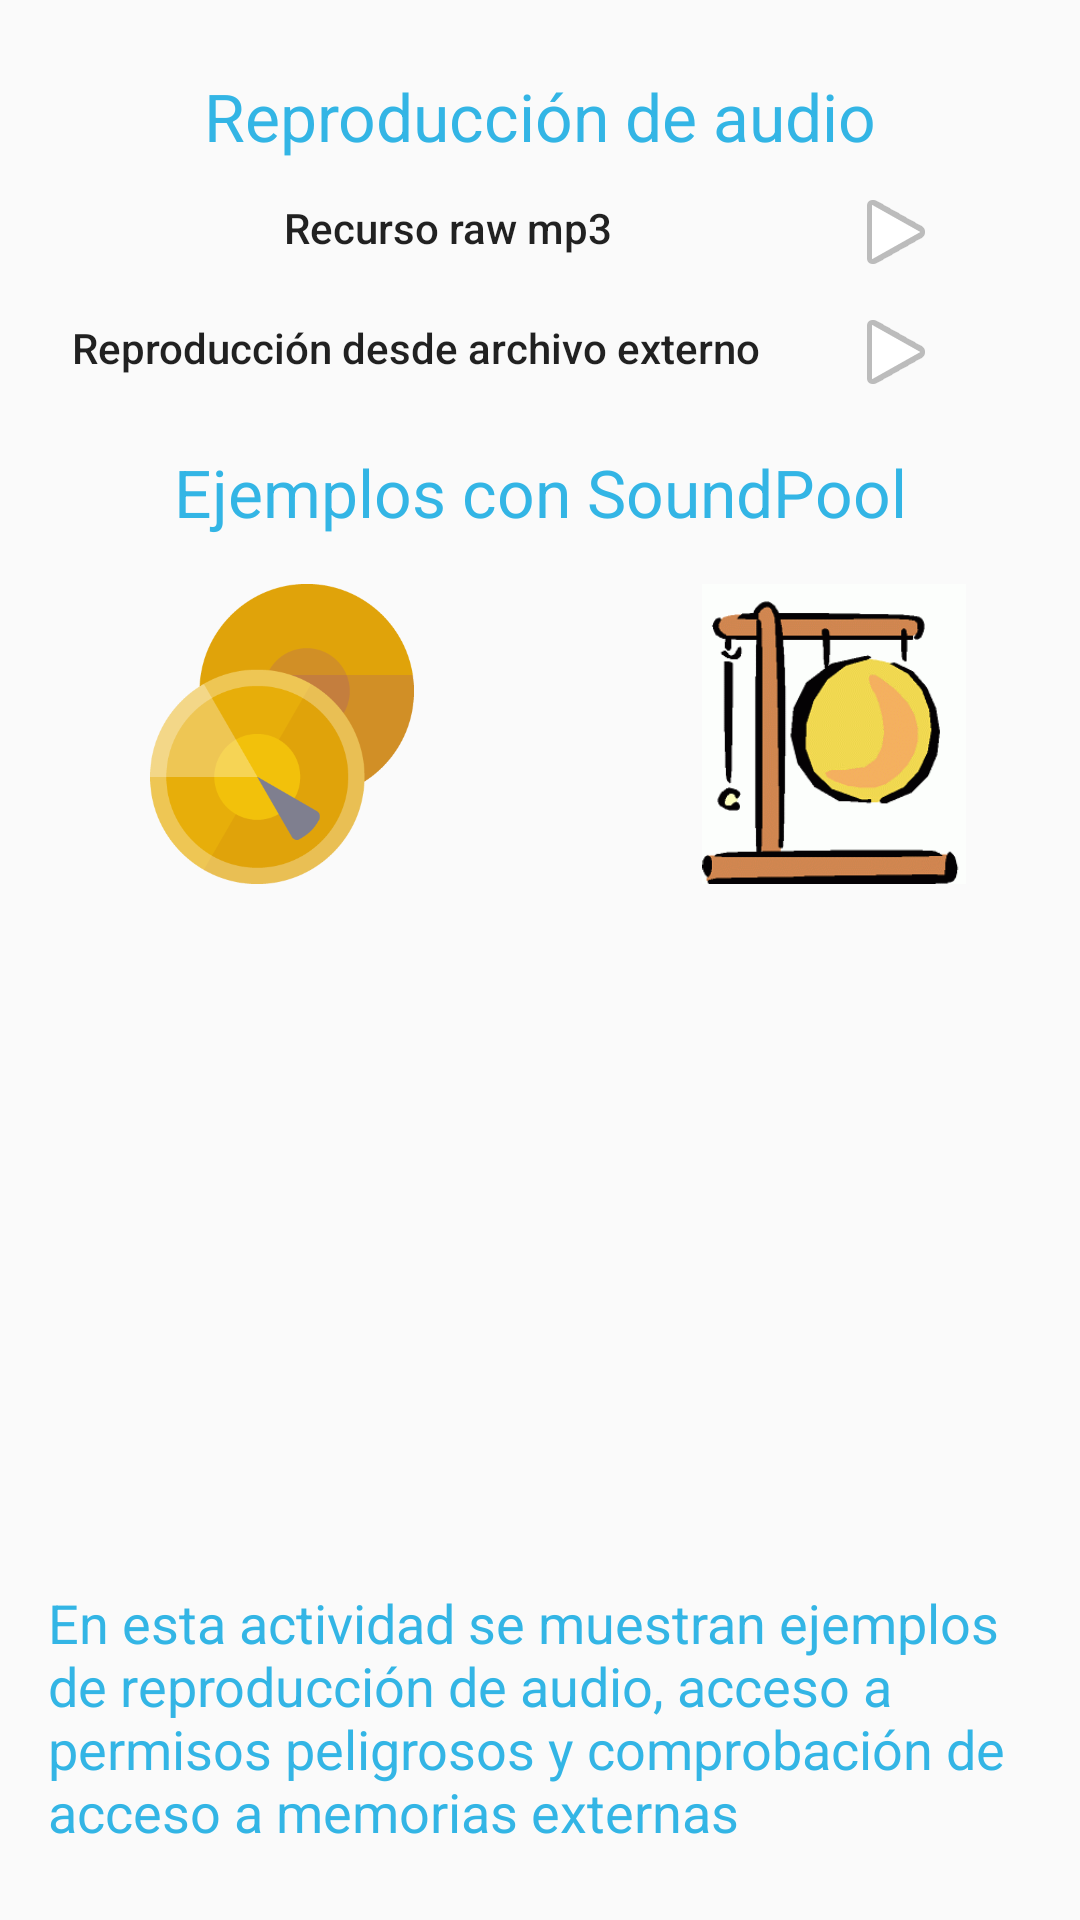

Named icons in this screenshot (1080*1920) and their bounding boxes, (x1, y1, x2, y2):
Botón de reproducción: (867, 200, 925, 264), (867, 320, 925, 384)
Gong: (702, 601, 958, 884)
Platillos: (150, 584, 414, 884)
